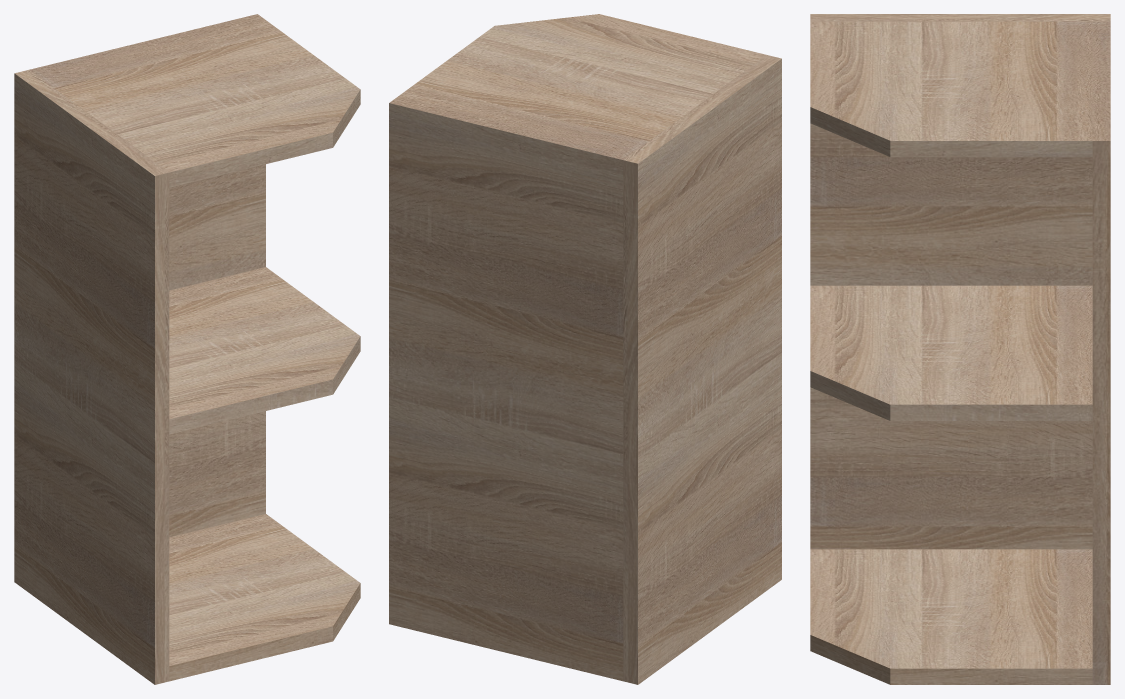
File: s_fvz_30.glb
The picture shows the model from 3 angles, left to right: view 1: azimuth 30°, elevation 25°; view 2: azimuth 150°, elevation 25°; view 3: azimuth 270°, elevation 25°; orthographic projection. The views are drawn at different scales.
Parts seen in each view (by area): view 1: s_fvz_30_korpusz; view 2: s_fvz_30_korpusz; view 3: s_fvz_30_korpusz.
Part boxes in pixels (left/top/right/bottom): s_fvz_30_korpusz: left=14, top=14, right=360, bottom=684; s_fvz_30_korpusz: left=389, top=14, right=781, bottom=684; s_fvz_30_korpusz: left=810, top=14, right=1110, bottom=684.
Bounding box in the file's own units: 0.3 × 0.6 × 0.3.
Materials: 1 (1 with a texture image).
